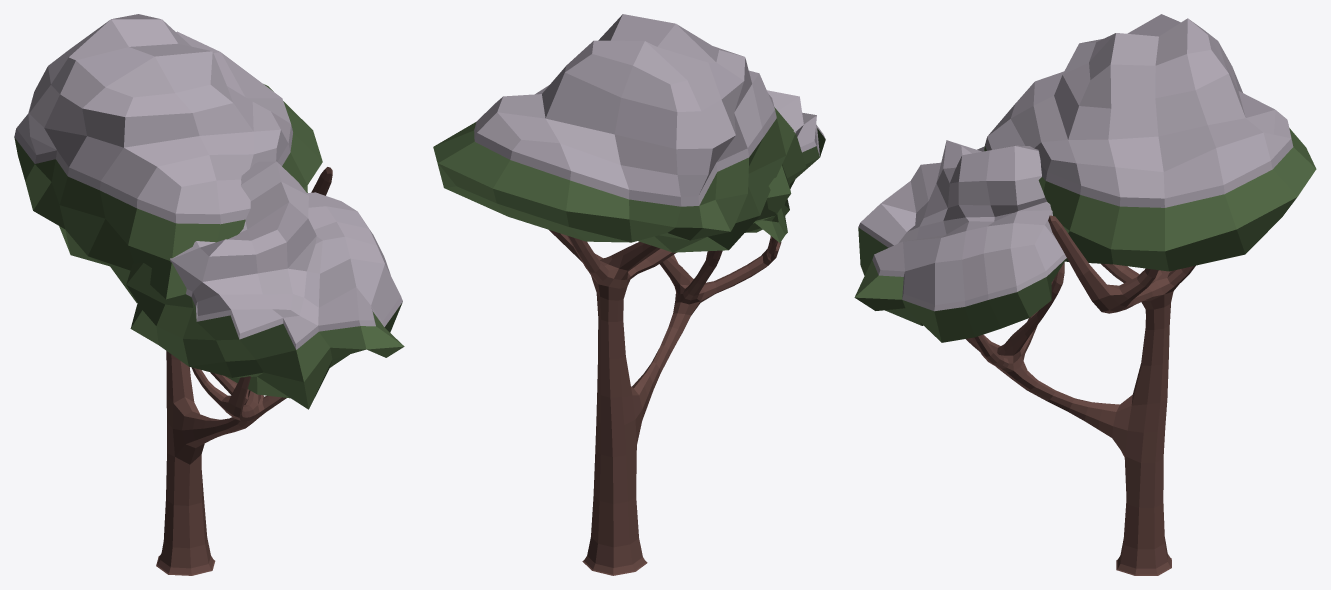
3 views of the same model, side by side, from view 1: azimuth 30°, elevation 25°; view 2: azimuth 150°, elevation 25°; view 3: azimuth 270°, elevation 25° (orthographic). The views are drawn at different scales.
Parts seen in each view (by area): view 1: CommonTree_Snow_2; view 2: CommonTree_Snow_2; view 3: CommonTree_Snow_2.
Boxes of the visible parts, left/top/right/bottom form: CommonTree_Snow_2: left=14, top=14, right=404, bottom=575; CommonTree_Snow_2: left=433, top=14, right=825, bottom=575; CommonTree_Snow_2: left=854, top=14, right=1316, bottom=575.
Bounding box in the file's own units: 1.66 × 3.16 × 2.54.
